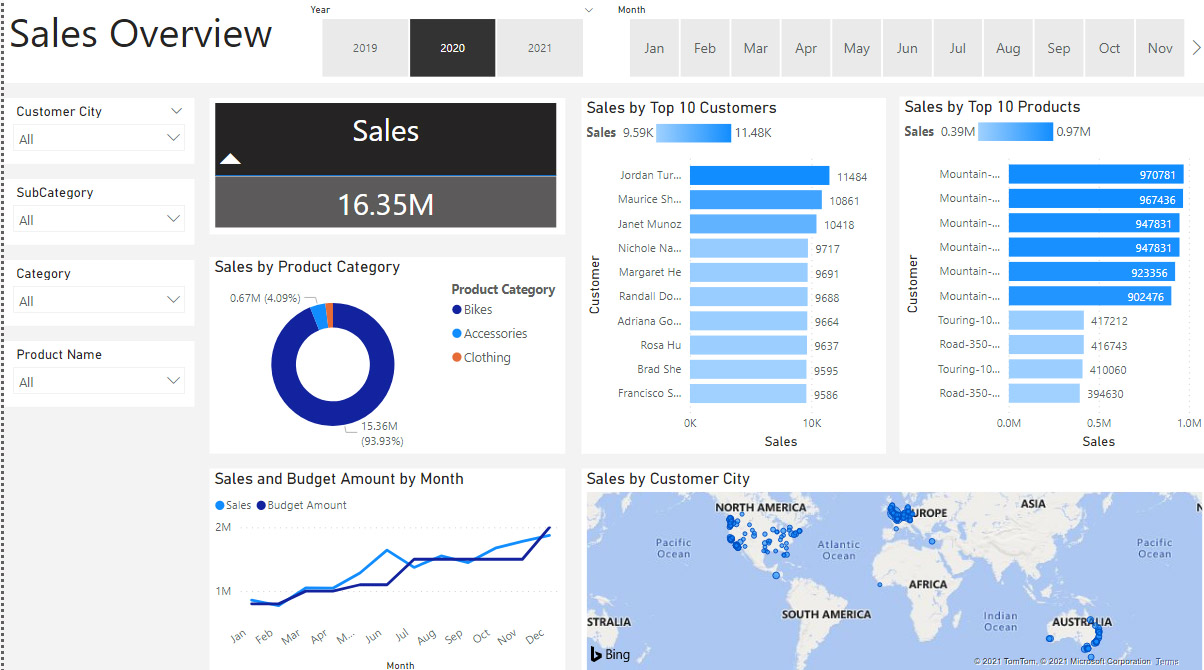

The page's visual inventory and layout, read from the dashboard file:
{"tool":"powerbi","page":{"name":"Page 1","canvas":[1280,720],"ordinal":0},"visuals":[{"type":"textbox","box":[0,0,1280.4,89.4],"z":0},{"type":"slicer","fields":{"Values":["Dim_Customer.Customer City"]},"box":[0,105.4,202.7,70.2],"z":1000},{"type":"slicer","fields":{"Values":["Dim_Product.SubCategory"]},"box":[0,191.6,202.7,70.2],"z":2000},{"type":"slicer","fields":{"Values":["Dim_Product.Product Category"]},"box":[0,277.8,202.7,70.2],"z":3000},{"type":"slicer","fields":{"Values":["Dim_Product.EnglishProductName"]},"box":[0,364,202.7,70.2],"z":4000},{"type":"slicer","fields":{"Values":["Dim_Date.Year"]},"box":[312.9,0,327.3,89.4],"z":5000},{"type":"slicer","fields":{"Values":["Dim_Date.MonthShort"]},"box":[640.2,0,640.2,89.4],"z":6000},{"type":"tableEx","fields":{"Values":["Fact_InternetSales.Sales"]},"box":[218.7,105.4,378.4,145.3],"z":7000},{"type":"donutChart","fields":{"Category":["Dim_Product.Product Category"],"Y":["Fact_InternetSales.Sales"]},"box":[218.7,274.6,378.4,209.1],"z":8000},{"type":"lineChart","fields":{"Y":["Fact_InternetSales.Sales","Fact_Budget.Budget Amount"],"Category":["Dim_Date.MonthShort"]},"box":[218.7,499.7,378.4,220.3],"z":9000},{"type":"barChart","title":"Sales by Top 10 Customers","fields":{"Y":["Fact_InternetSales.Sales"],"Category":["Dim_Customer.FullName"]},"box":[614.6,105.4,324.1,378.4],"z":10000},{"type":"barChart","title":"Sales by Top 10 Products","fields":{"Y":["Fact_InternetSales.Sales"],"Category":["Dim_Product.EnglishProductName"]},"box":[953.1,103.8,327.3,380],"z":11000},{"type":"map","fields":{"Category":["Dim_Customer.Customer City"],"Size":["Fact_InternetSales.Sales"]},"box":[614.6,499.7,665.7,220.3],"z":11001}]}

Visuals, with their boxes in screenshot pixels (x1, y1, x2, y2), scaled from the page's 1280x720 canvas onto the 1204x670 screenshot:
textbox: left=0, top=0, right=1203, bottom=83
slicer - Dim_Customer.Customer City: left=0, top=98, right=191, bottom=163
slicer - Dim_Product.SubCategory: left=0, top=178, right=191, bottom=244
slicer - Dim_Product.Product Category: left=0, top=259, right=191, bottom=324
slicer - Dim_Product.EnglishProductName: left=0, top=339, right=191, bottom=404
slicer - Dim_Date.Year: left=294, top=0, right=602, bottom=83
slicer - Dim_Date.MonthShort: left=602, top=0, right=1203, bottom=83
tableEx - Fact_InternetSales.Sales: left=206, top=98, right=562, bottom=233
donutChart - Dim_Product.Product Category x Fact_InternetSales.Sales: left=206, top=256, right=562, bottom=450
lineChart - Fact_InternetSales.Sales x Fact_Budget.Budget Amount: left=206, top=465, right=562, bottom=669
"Sales by Top 10 Customers" barChart: left=578, top=98, right=883, bottom=450
"Sales by Top 10 Products" barChart: left=897, top=97, right=1203, bottom=450
map - Dim_Customer.Customer City x Fact_InternetSales.Sales: left=578, top=465, right=1203, bottom=669
